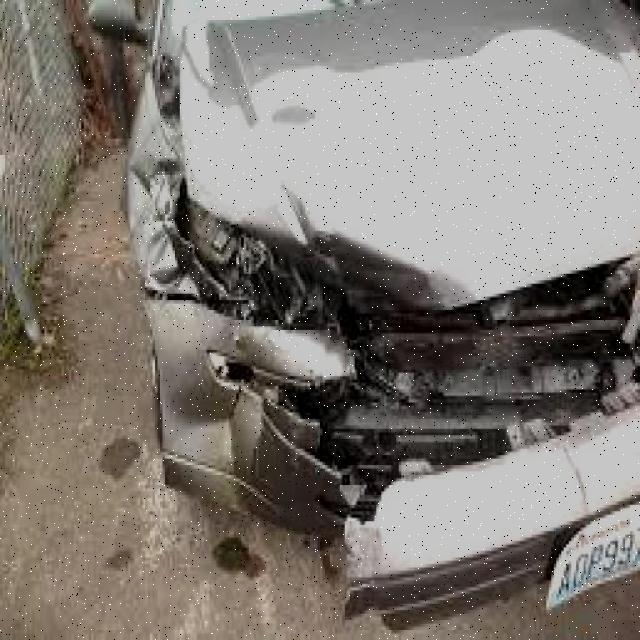car damage: (126, 20, 639, 634)
